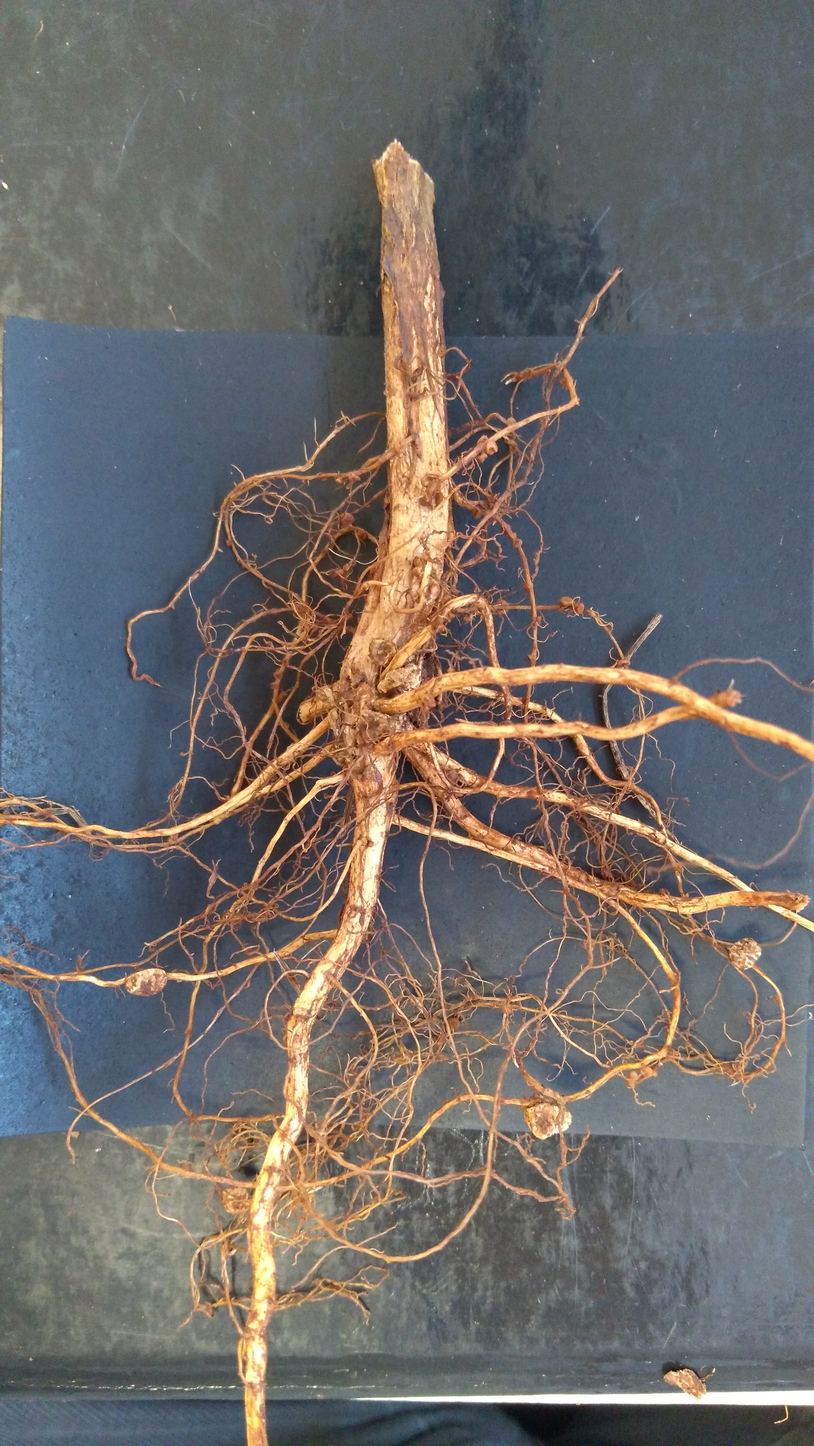nodule: (523, 1098, 574, 1144), (374, 663, 425, 700), (120, 965, 171, 1000), (212, 1181, 254, 1221), (727, 935, 764, 971), (366, 634, 398, 669), (424, 577, 442, 604), (493, 598, 512, 617), (412, 552, 428, 566), (446, 1016, 463, 1029), (432, 1033, 449, 1046), (339, 512, 356, 525), (626, 1071, 638, 1089), (485, 440, 499, 455), (571, 602, 585, 616), (558, 595, 575, 606), (615, 658, 633, 668), (355, 527, 367, 541), (331, 568, 345, 580), (476, 451, 488, 464), (476, 434, 488, 447), (522, 579, 534, 592), (640, 1066, 653, 1078), (412, 566, 424, 578), (525, 651, 535, 665), (500, 523, 512, 533), (342, 562, 354, 572), (335, 476, 347, 486), (534, 615, 544, 626), (506, 416, 516, 427), (512, 538, 523, 548), (658, 887, 669, 897), (349, 557, 357, 567), (509, 531, 517, 539), (226, 539, 233, 547)
